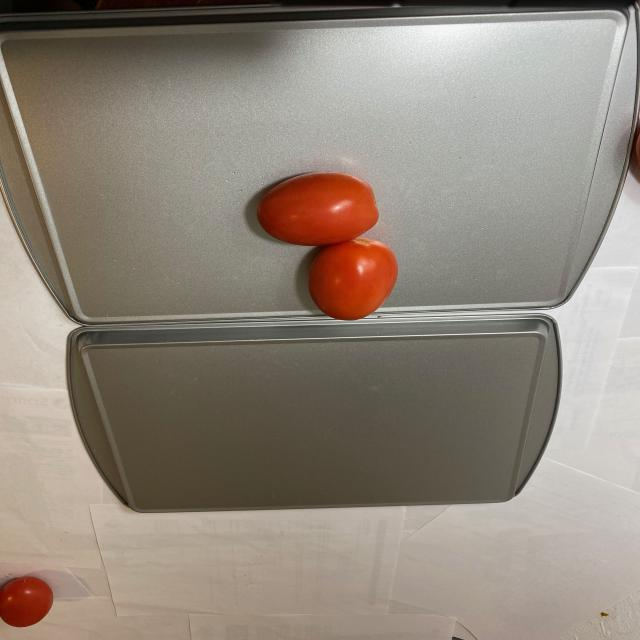tomato: (257, 172, 402, 322), (0, 570, 58, 628)
